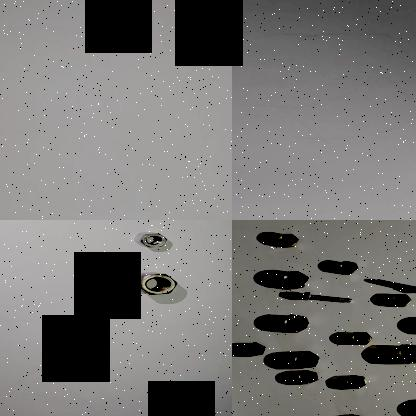Bolts: (371, 276, 416, 296), (295, 290, 353, 304)
NUTS: (131, 272, 181, 298), (130, 228, 172, 250), (274, 312, 310, 334), (286, 349, 320, 371), (274, 269, 308, 289), (387, 343, 416, 364), (382, 292, 414, 309), (290, 368, 320, 386), (237, 342, 270, 358), (270, 230, 296, 250), (336, 374, 370, 389), (330, 260, 360, 276), (344, 329, 372, 346)
